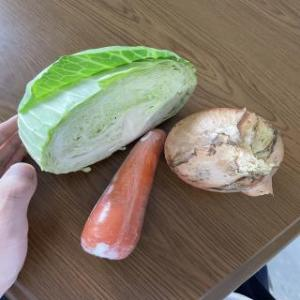cabbage: (17, 46, 198, 176)
carrot: (76, 128, 166, 264)
onion: (162, 107, 284, 199)
